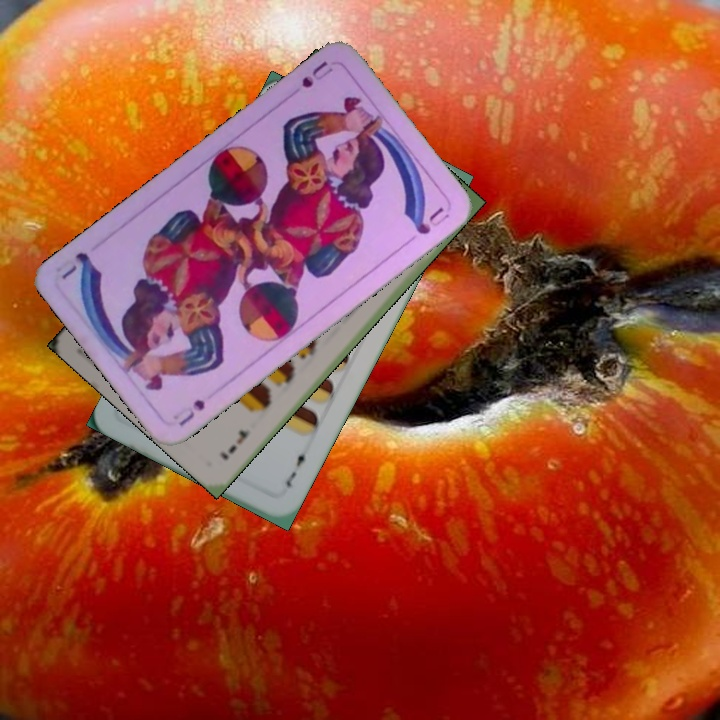E7: (281, 445, 312, 490), (215, 426, 252, 463)
SU: (168, 395, 208, 429), (297, 57, 336, 91)
